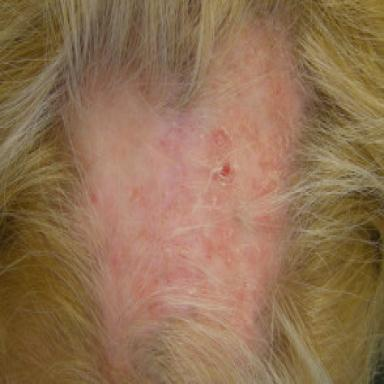Lupus-Erythematosus-Chronicus-Discoides: (72, 27, 305, 349)
